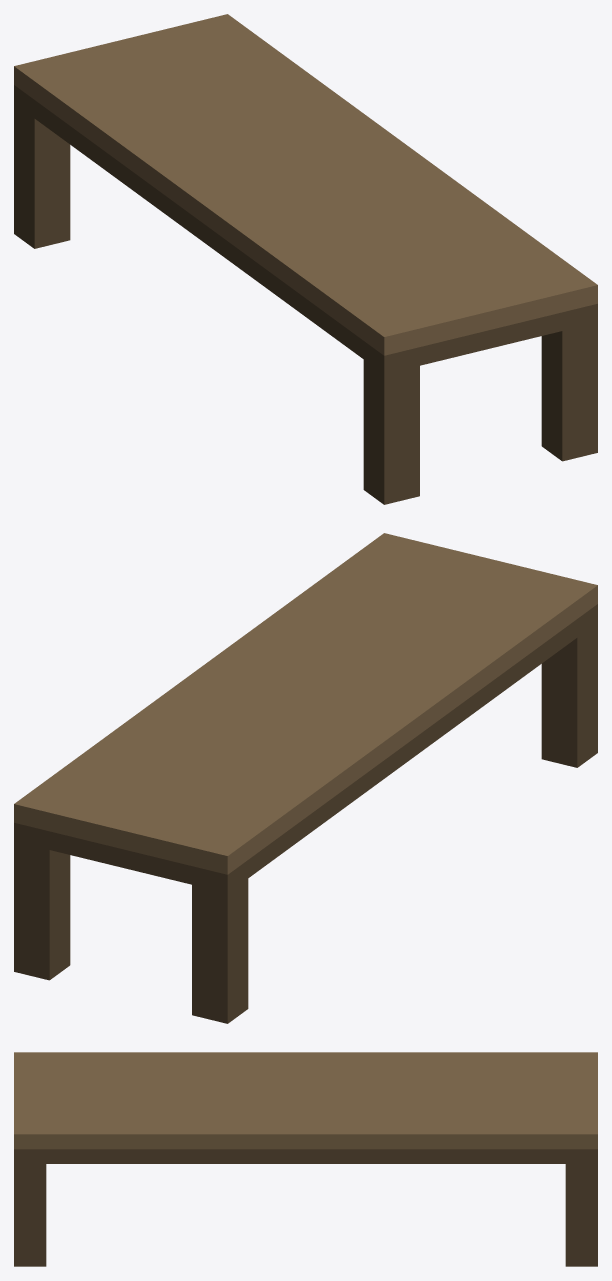
Rendered from mostrador_nogal_pulido_01.glb.
3 views of the same model, one above another, from view 1: azimuth 30°, elevation 25°; view 2: azimuth 150°, elevation 25°; view 3: azimuth 270°, elevation 25° (orthographic). The views are drawn at different scales.
Parts seen in each view (by area): view 1: mostrador_nogal_pulido; view 2: mostrador_nogal_pulido; view 3: mostrador_nogal_pulido.
Part boxes in pixels (x1,y1,x2,y2): mostrador_nogal_pulido: (14,14,597,504); mostrador_nogal_pulido: (14,533,597,1023); mostrador_nogal_pulido: (14,1052,597,1266).
Size of the model in its own units: 1 by 0.75 by 3.
